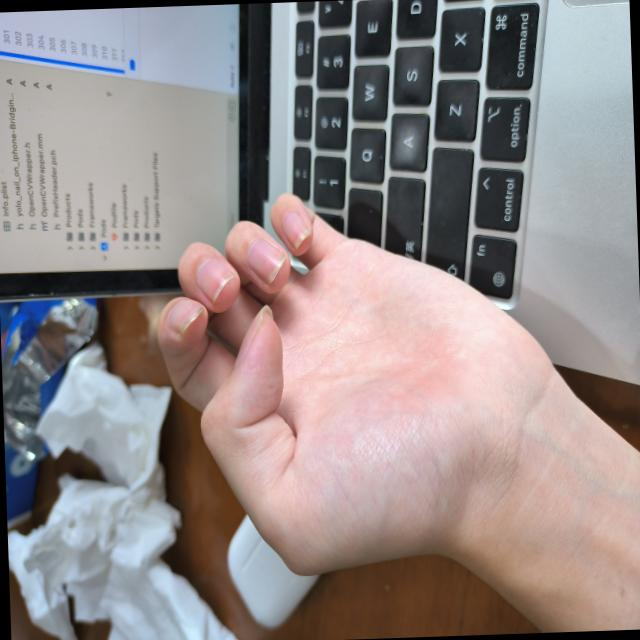Nail: (233, 304, 264, 364), (196, 257, 235, 302), (247, 238, 285, 284), (167, 298, 204, 333), (282, 210, 310, 249)
